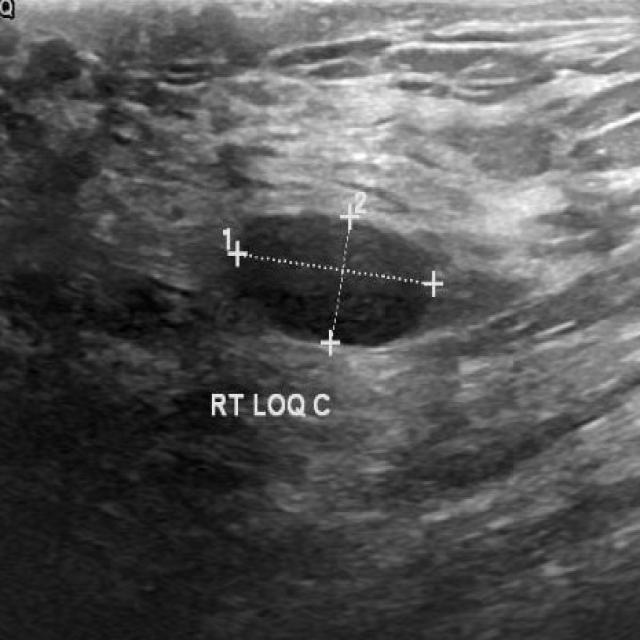Benign: (234, 213, 434, 343)
